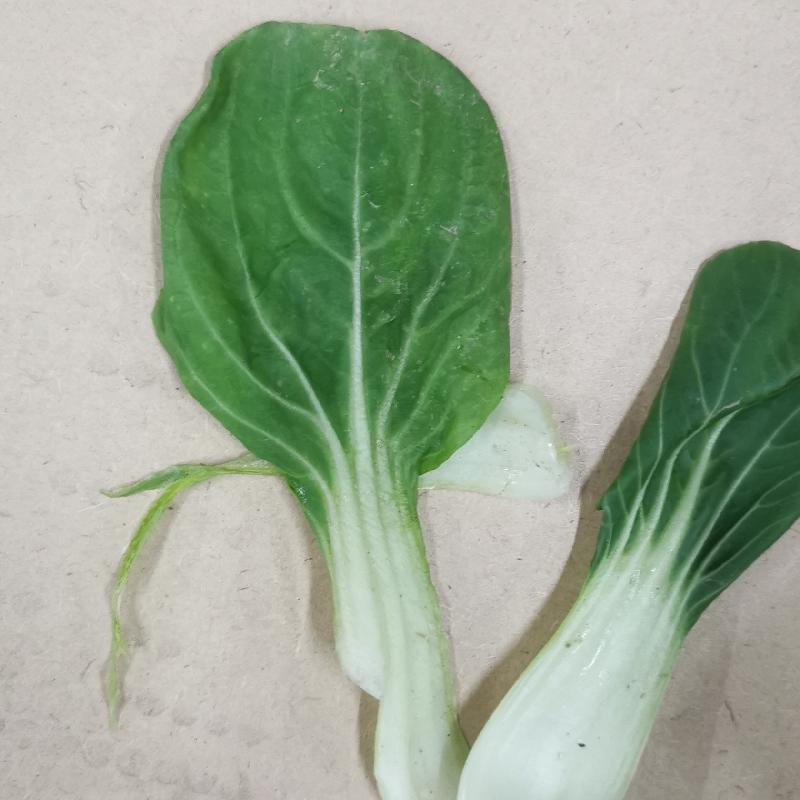green vegatable: (134, 13, 505, 794), (440, 237, 800, 799)
